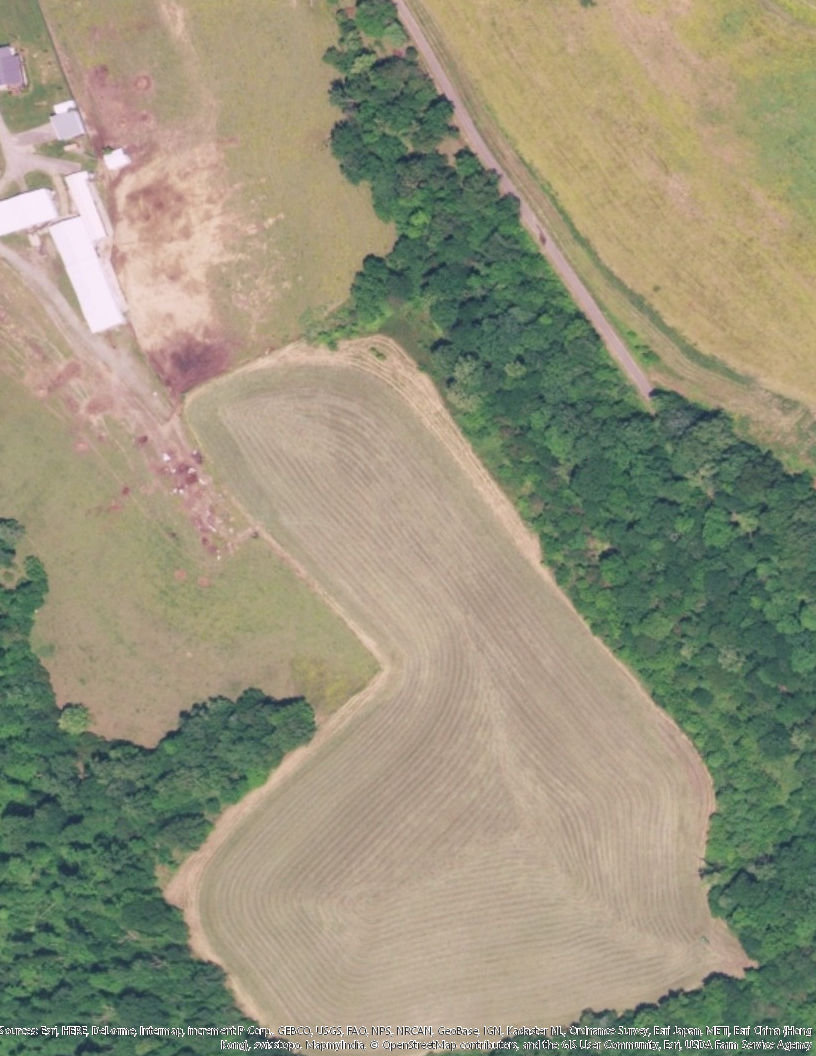cafo: (48, 158, 116, 334), (1, 185, 65, 241)
